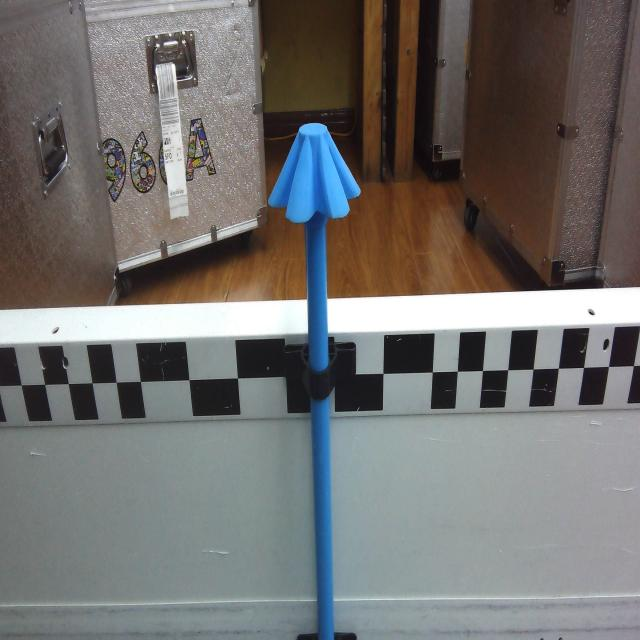zblue-Stake-Head: (268, 123, 361, 224)
